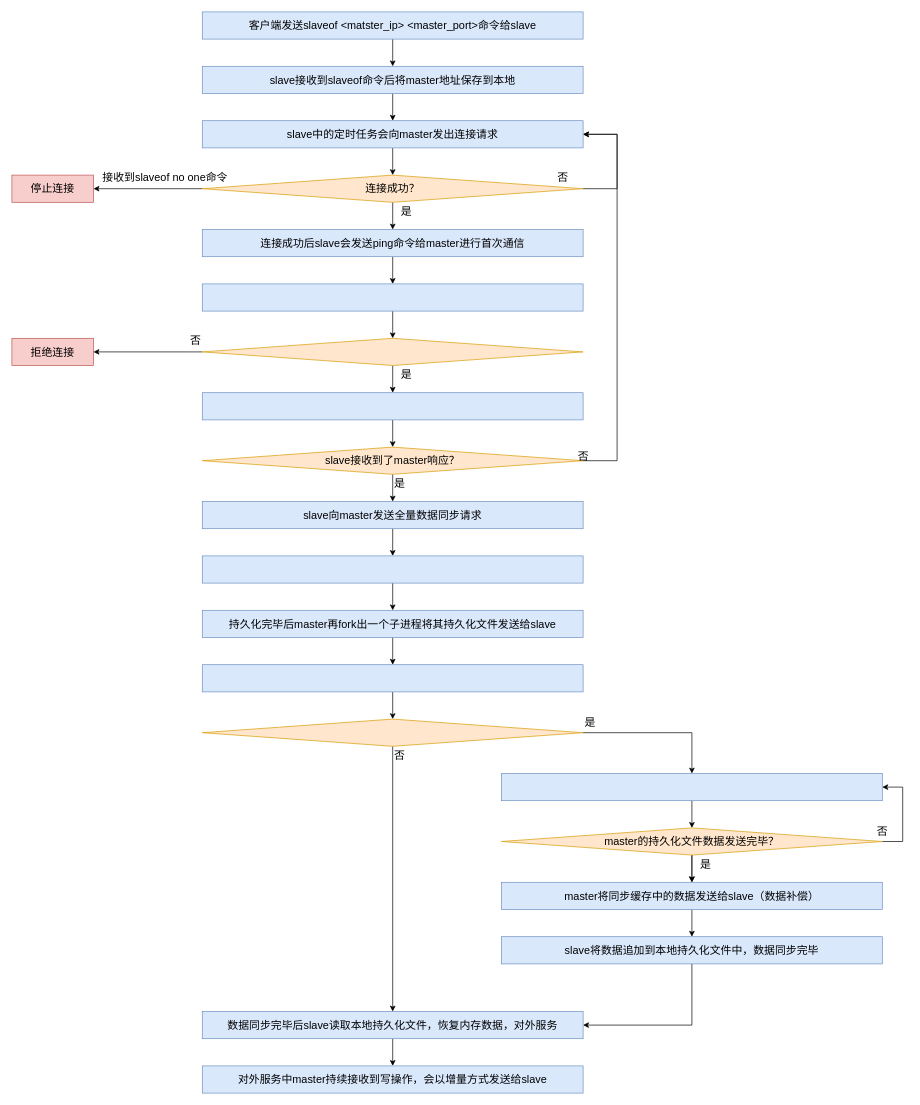
Image size: 920x1105. Some labels were removed from this diagram. Here are the shapes that lost their labels. From the top down, the centre of each, then its label:
At (392,297): "master在接收到slave的ping命令后对slave进行身份验证".
At (392,352): "身份认证成功？".
At (392,406): "master向slave发送连接成功响应".
At (392,569): "master在接收到数据同步请求后fork出一个子进程进行数据持久化".
At (392,678): "slave接收到master的数据并写入到本地的数据持久化文件".
At (392,732): "数据同步过程中master主进程又有写操作发生？".
At (691,787): "master将数据写入到本地内存的同时又将数据写入同步缓存".
